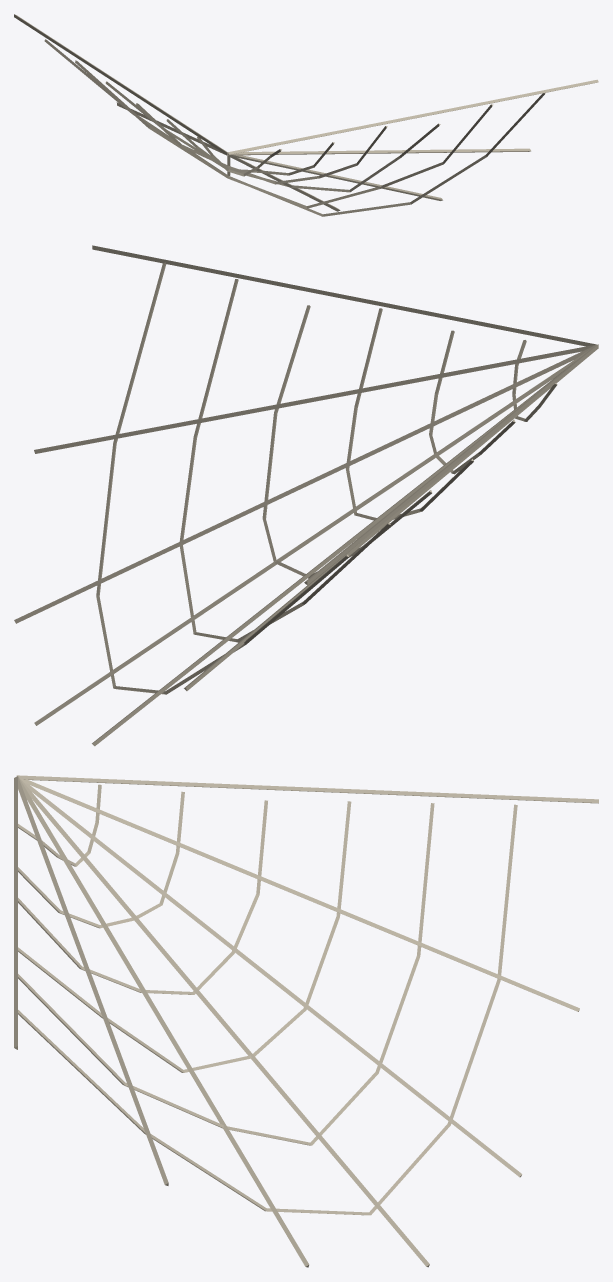
File: cobweb.glb
The picture shows the model from 3 angles, top to bottom: view 1: azimuth 30°, elevation 25°; view 2: azimuth 150°, elevation 25°; view 3: azimuth 270°, elevation 25°; orthographic projection. The views are drawn at different scales.
Parts seen in each view (by area): view 1: cobweb; view 2: cobweb; view 3: cobweb.
Boxes of the visible parts, box(x1,y1,x2,y2) form: cobweb: box(14, 14, 598, 216); cobweb: box(14, 245, 598, 746); cobweb: box(14, 775, 598, 1267).
Size of the model in its own units: 1.1 by 0.663 by 1.11.
